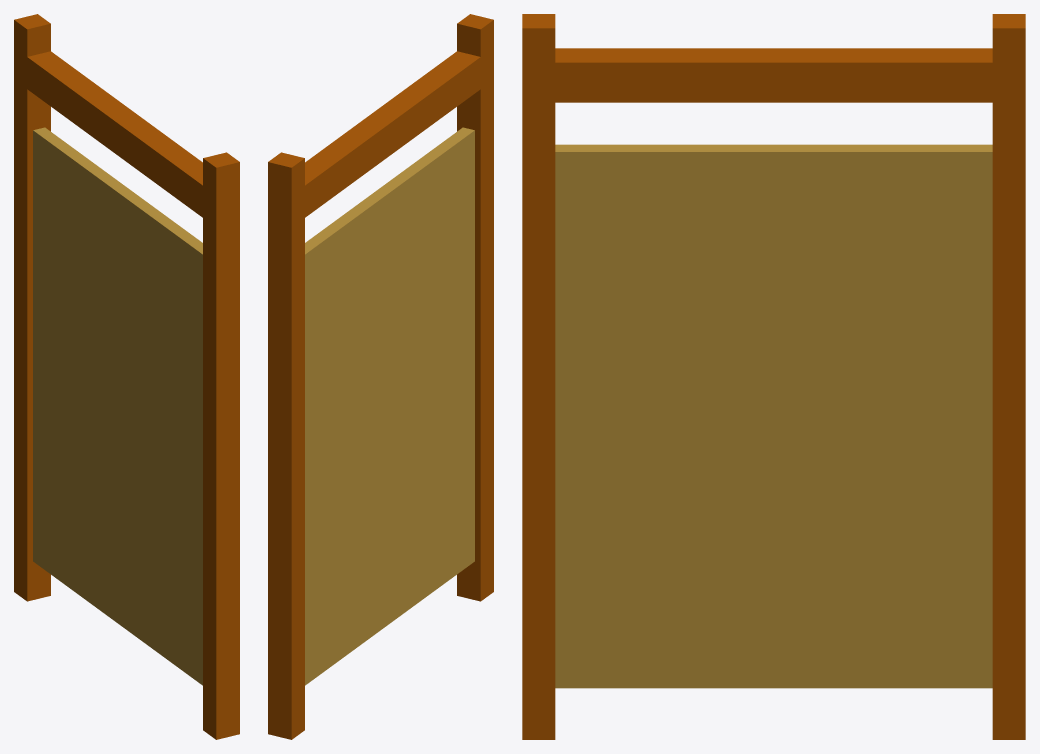
The model's file is FanceDoor.fbx.
3 renders of one model, left to right at view 1: azimuth 30°, elevation 25°; view 2: azimuth 150°, elevation 25°; view 3: azimuth 270°, elevation 25°, orthographic. The views are drawn at different scales.
Visible parts, largest first — view 1: FanceDoor; view 2: FanceDoor; view 3: FanceDoor.
Boxes of the visible parts, box(x1,y1,x2,y2) form: FanceDoor: box(14, 14, 239, 739); FanceDoor: box(268, 14, 493, 739); FanceDoor: box(522, 14, 1025, 739).
Bounding box in the file's own units: 0.3459 × 8 × 5.12.
